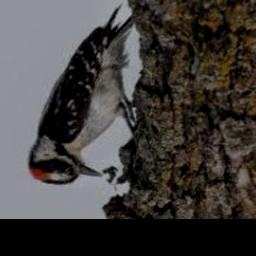Woodpecker: (27, 3, 136, 185)
